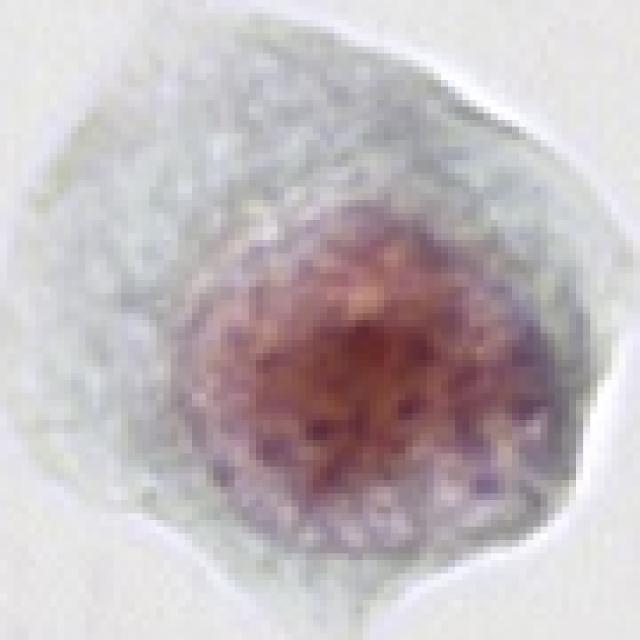nucleus: (126, 146, 614, 631)
